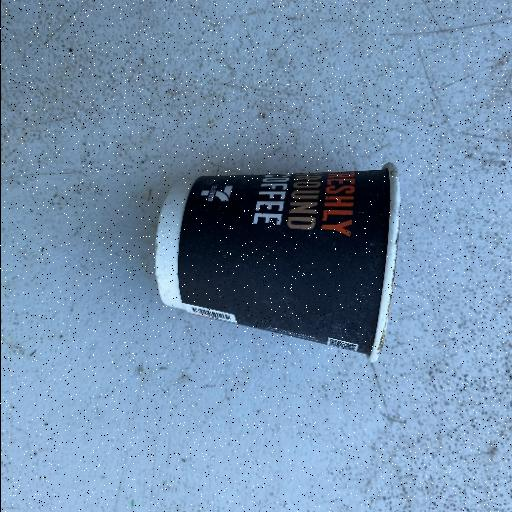Cardboard: (152, 162, 402, 364)
